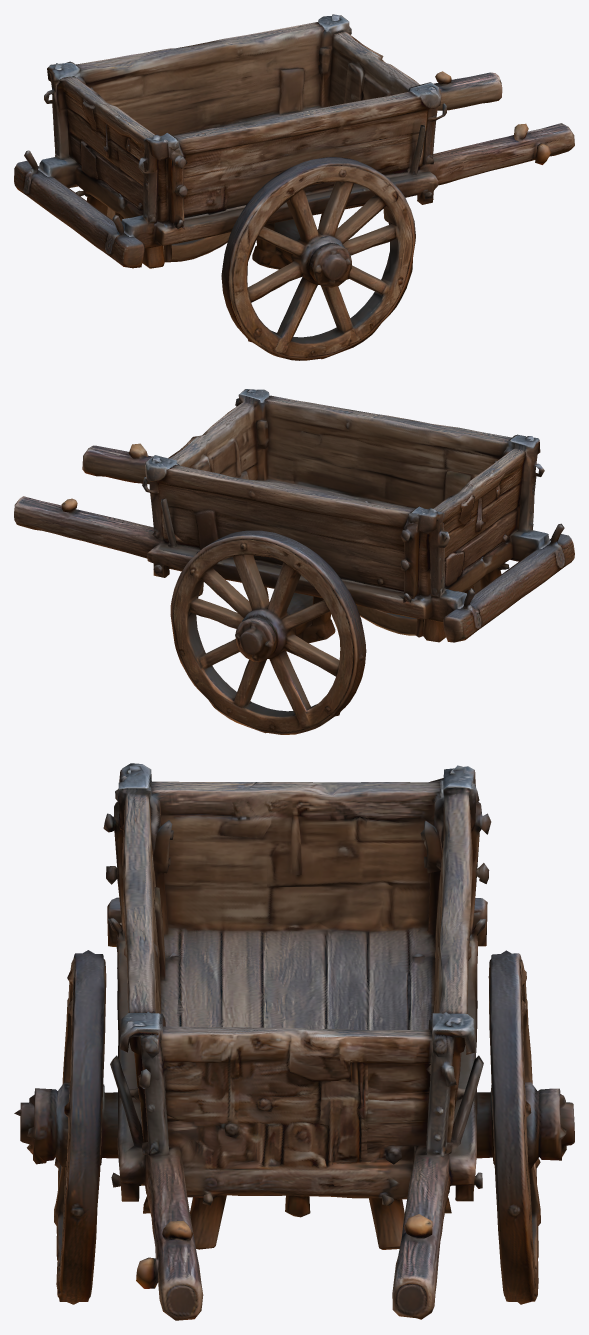
Rendered from cart.glb.
3 renders of one model, top to bottom at view 1: azimuth 30°, elevation 25°; view 2: azimuth 150°, elevation 25°; view 3: azimuth 270°, elevation 25°, orthographic. The views are drawn at different scales.
Parts seen in each view (by area): view 1: tripo_node_545219bc-bba6-43f1-a797-c71acd7b5d40; view 2: tripo_node_545219bc-bba6-43f1-a797-c71acd7b5d40; view 3: tripo_node_545219bc-bba6-43f1-a797-c71acd7b5d40.
Boxes of the visible parts, <box> form: tripo_node_545219bc-bba6-43f1-a797-c71acd7b5d40: <box>14,14,574,360</box>; tripo_node_545219bc-bba6-43f1-a797-c71acd7b5d40: <box>14,389,574,734</box>; tripo_node_545219bc-bba6-43f1-a797-c71acd7b5d40: <box>14,763,574,1320</box>.
Size of the model in its own units: 1 by 0.5005 by 0.6279.
1 material, 1 textured.
